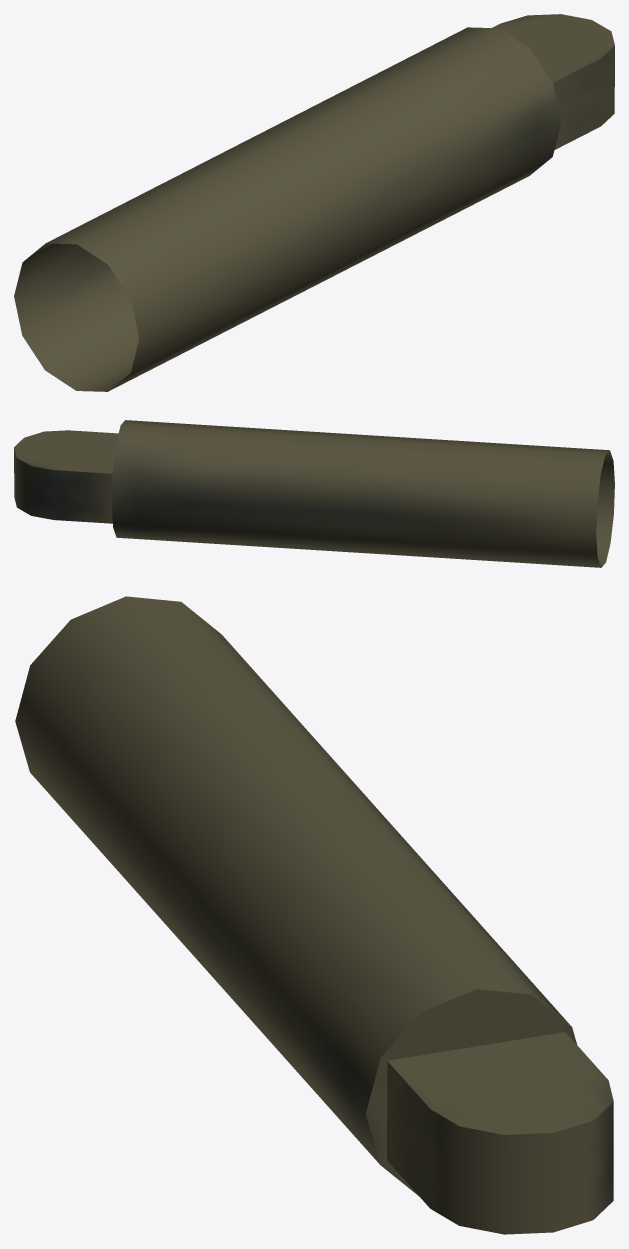
The model's file is blade_cyl_rod.obj.
The picture shows the model from 3 angles, top to bottom: view 1: azimuth 30°, elevation 25°; view 2: azimuth 150°, elevation 25°; view 3: azimuth 270°, elevation 25°; orthographic projection. The views are drawn at different scales.
Parts seen in each view (by area): view 1: Plow_mechanism_1.001; view 2: Plow_mechanism_1.001; view 3: Plow_mechanism_1.001.
Part boxes in pixels (box(x1,y1,x2,y2)): Plow_mechanism_1.001: box(14, 14, 614, 391); Plow_mechanism_1.001: box(14, 420, 614, 567); Plow_mechanism_1.001: box(15, 596, 613, 1234).
Size of the model in its own units: 0.2815 by 0.0585 by 0.1444.
Materials: 1 (1 with a texture image).
